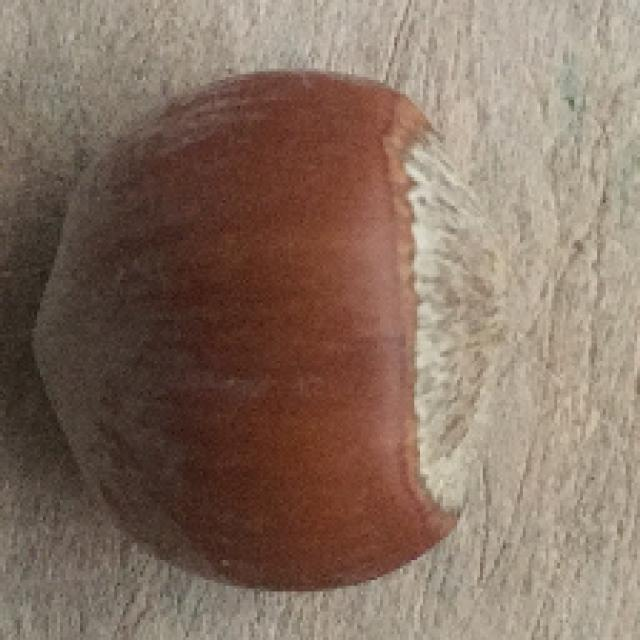QualityHazelnut: (34, 64, 508, 595)
